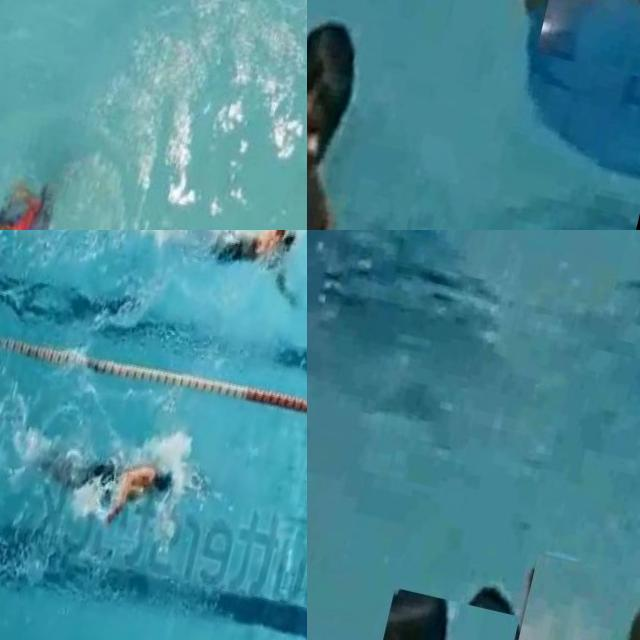swimming: (0, 399, 227, 548), (307, 4, 382, 230), (482, 551, 640, 640), (164, 230, 307, 311), (307, 43, 370, 223), (344, 587, 519, 640), (534, 0, 640, 84), (0, 172, 58, 230)
